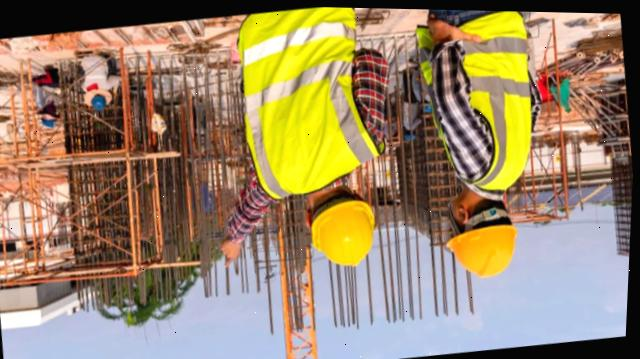helmet: (433, 216, 532, 284), (303, 192, 389, 270), (93, 93, 109, 107), (42, 118, 59, 128)
vest: (230, 4, 387, 205), (425, 8, 553, 197)
